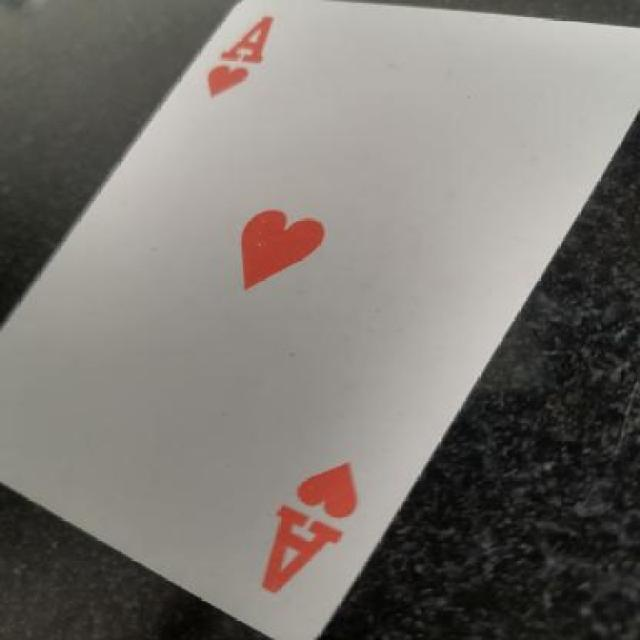AH: (243, 446, 394, 597), (191, 4, 286, 108)
